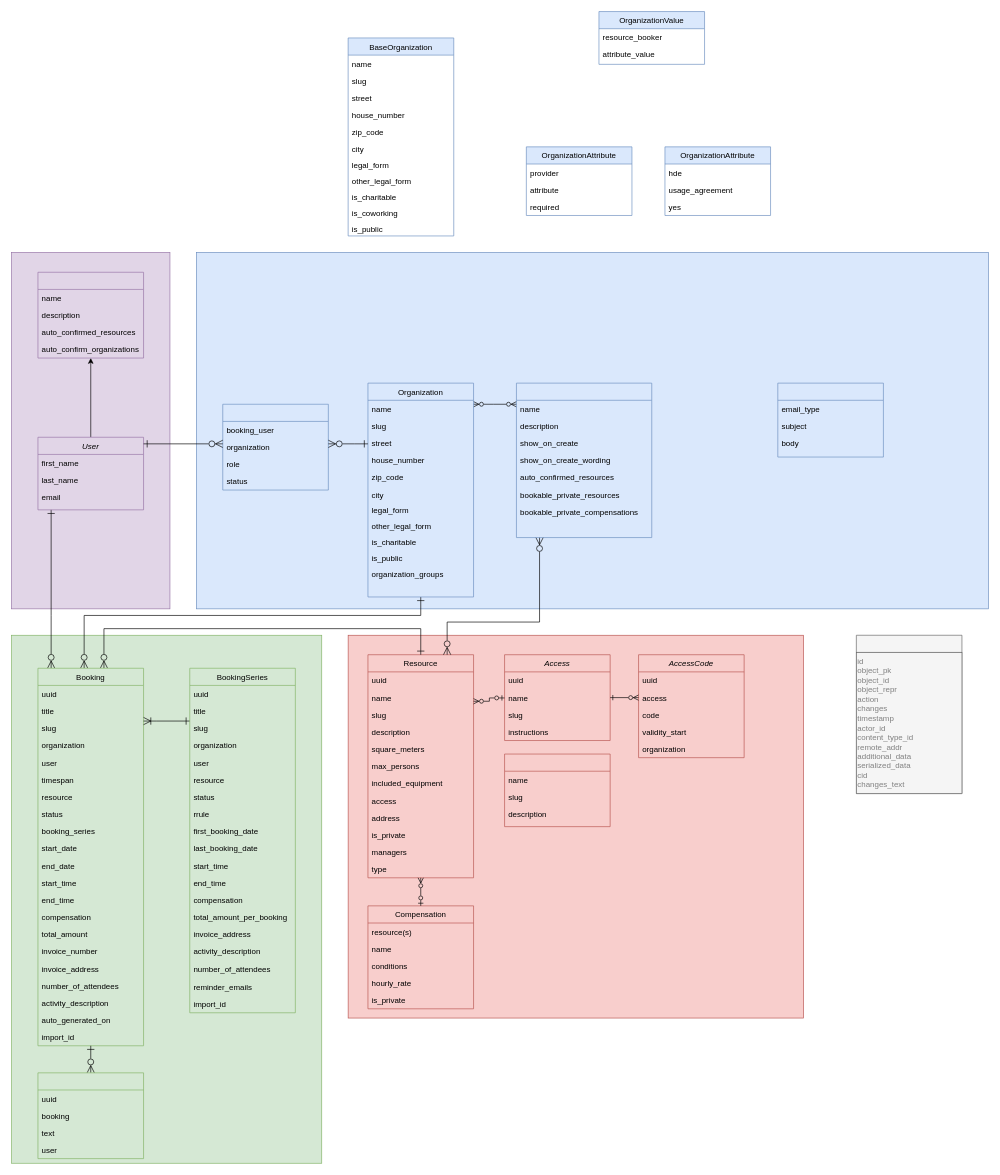
Image size: 1000x1175. Some labels were removed from this diagram. Here are the shapes that lost their labels. From the top down, the box of each, then its label:
(37, 272, 144, 358): UserGroup
(777, 382, 883, 457): EmailTemplate
(222, 404, 328, 490): BookingPermission
(516, 382, 652, 538): OrganizationGroup
(856, 635, 962, 794): auditlog_logentry
(504, 753, 610, 827): BookableAsset
(37, 1072, 144, 1159): BookingMessage
